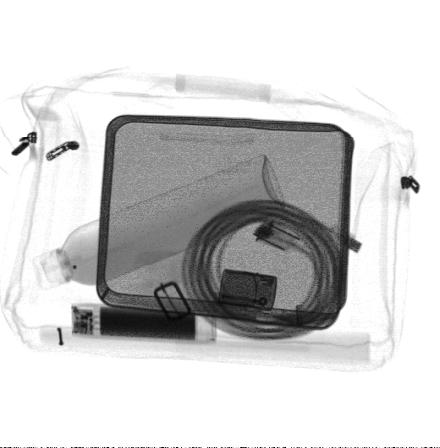Lighter: (217, 268, 277, 311)
Powerbank: (71, 305, 216, 344)
Sprayer: (33, 156, 286, 291)
